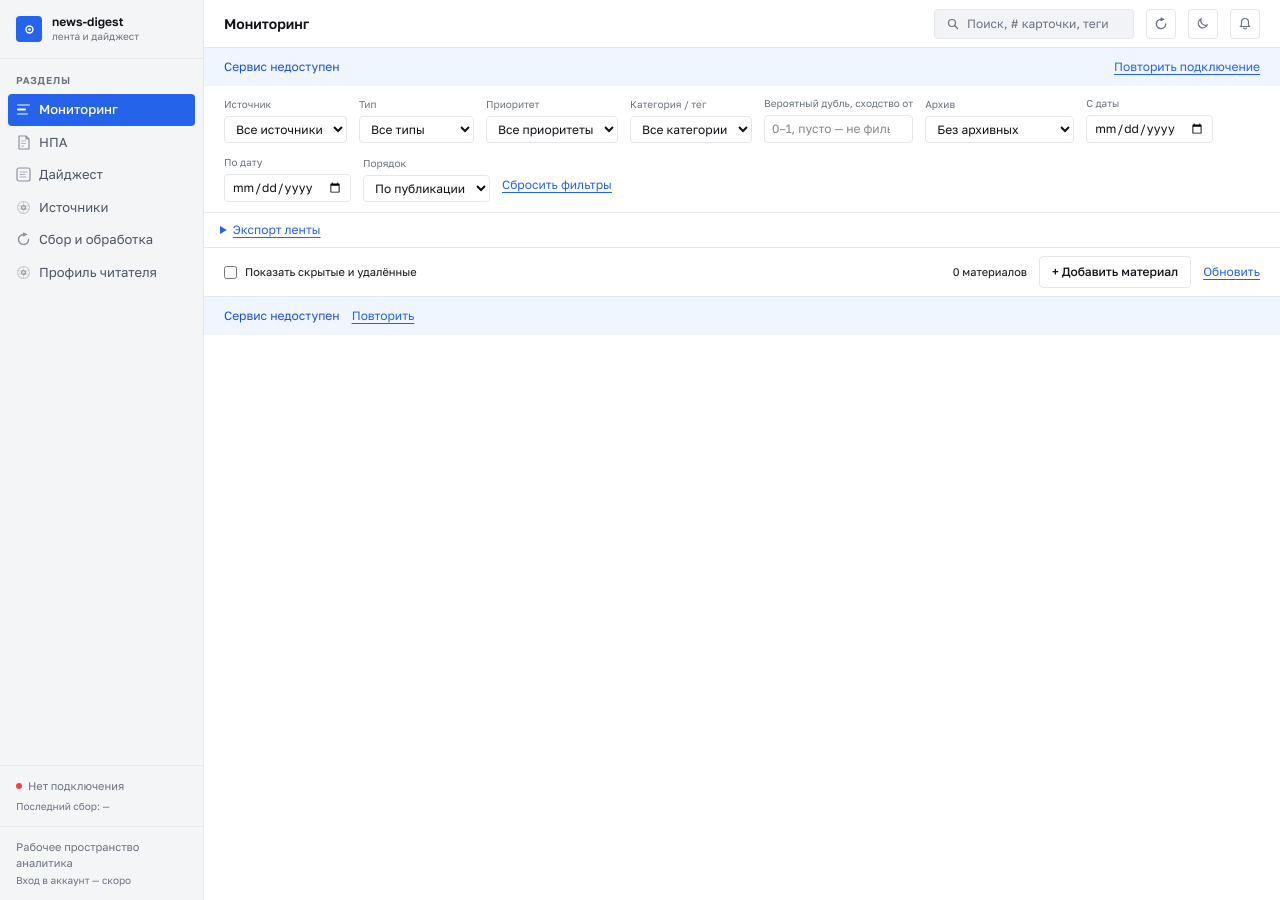
Test: live dashboard and navigation › shows connection errors with a working retry
The width and height of the screenshot is (1280, 900).
Click the button "Повторить подключение". click: (1187, 67)
box: [1114,58,1260,76]
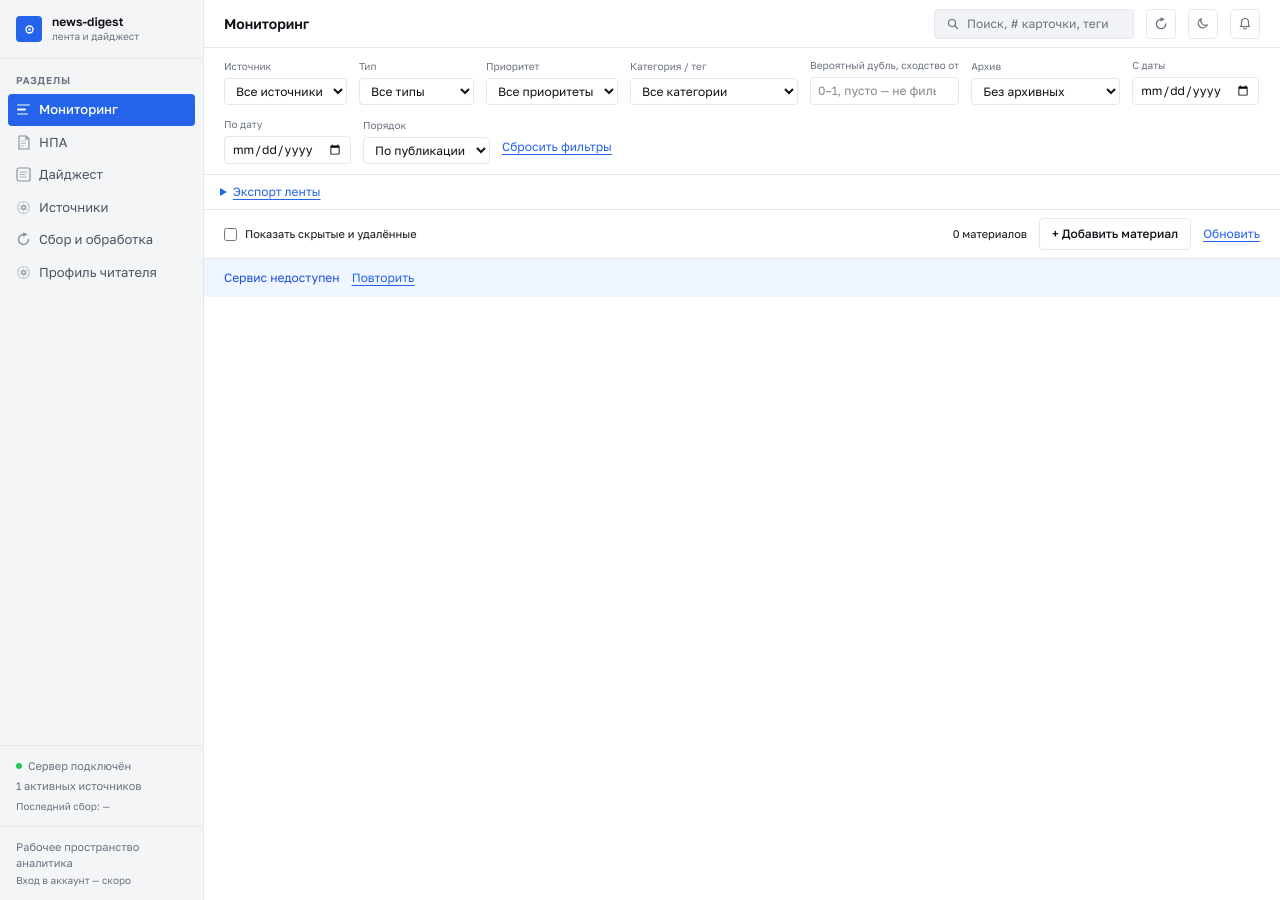
Click the button "Повторить". click: (383, 278)
box: [352,269,414,287]
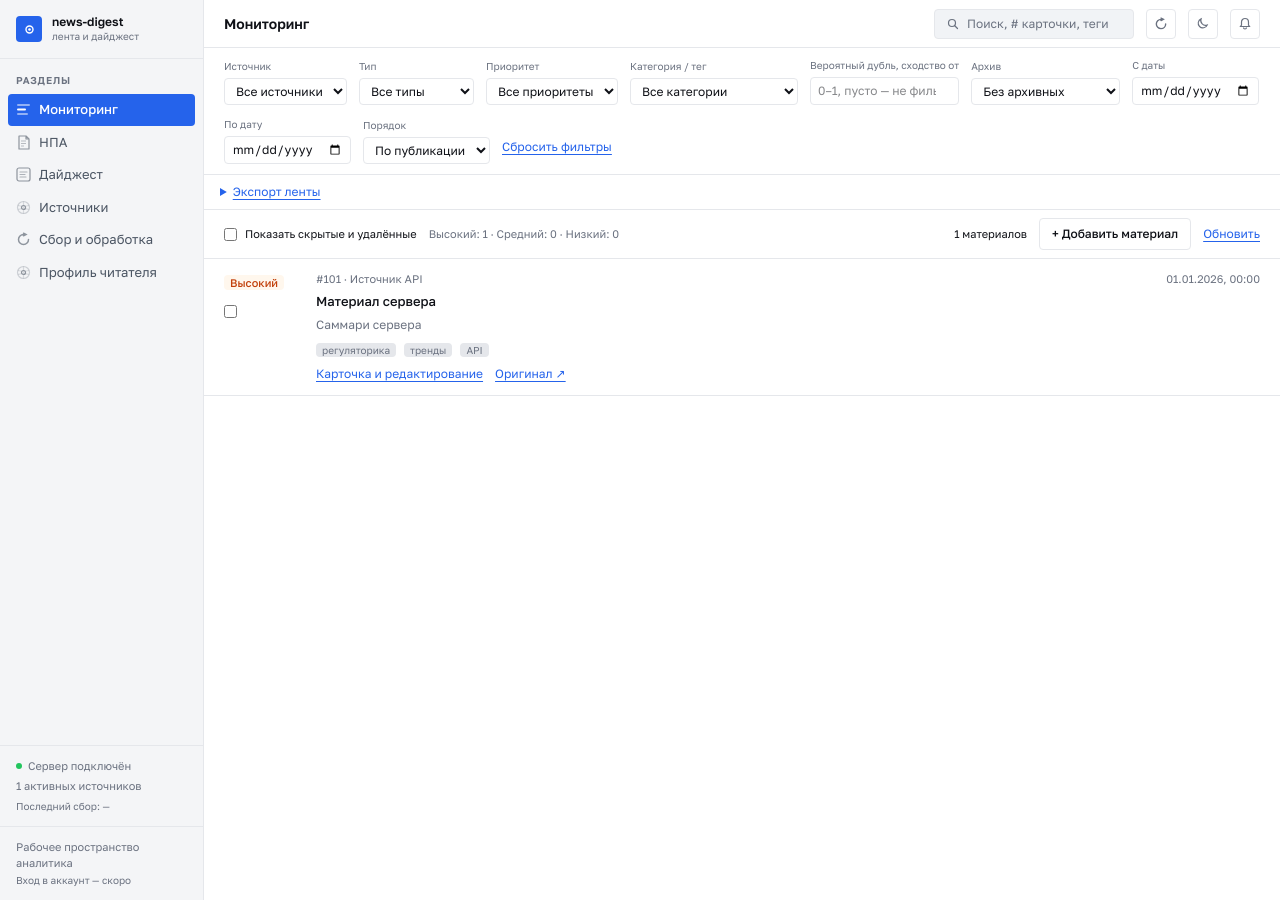
Expected: the text "Материал сервера" is shown, [316,292,436,311]
